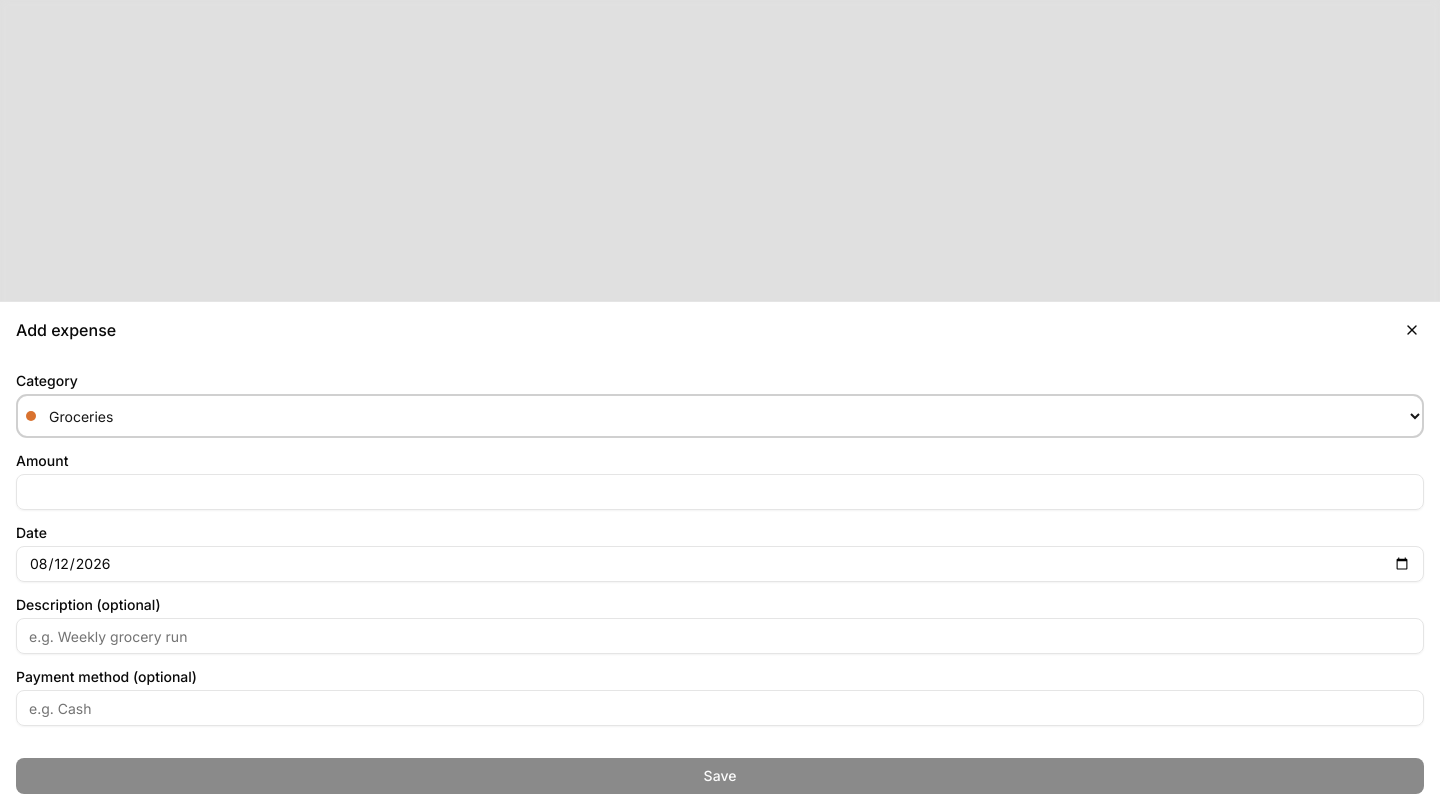
ExpenseForm › disables save until category, amount, and date are set
Expected: the button "Save" is disabled, [16,758,1424,794]
Type "850" into the field labelled "Amount" at (720,492), box [16,474,1424,510]
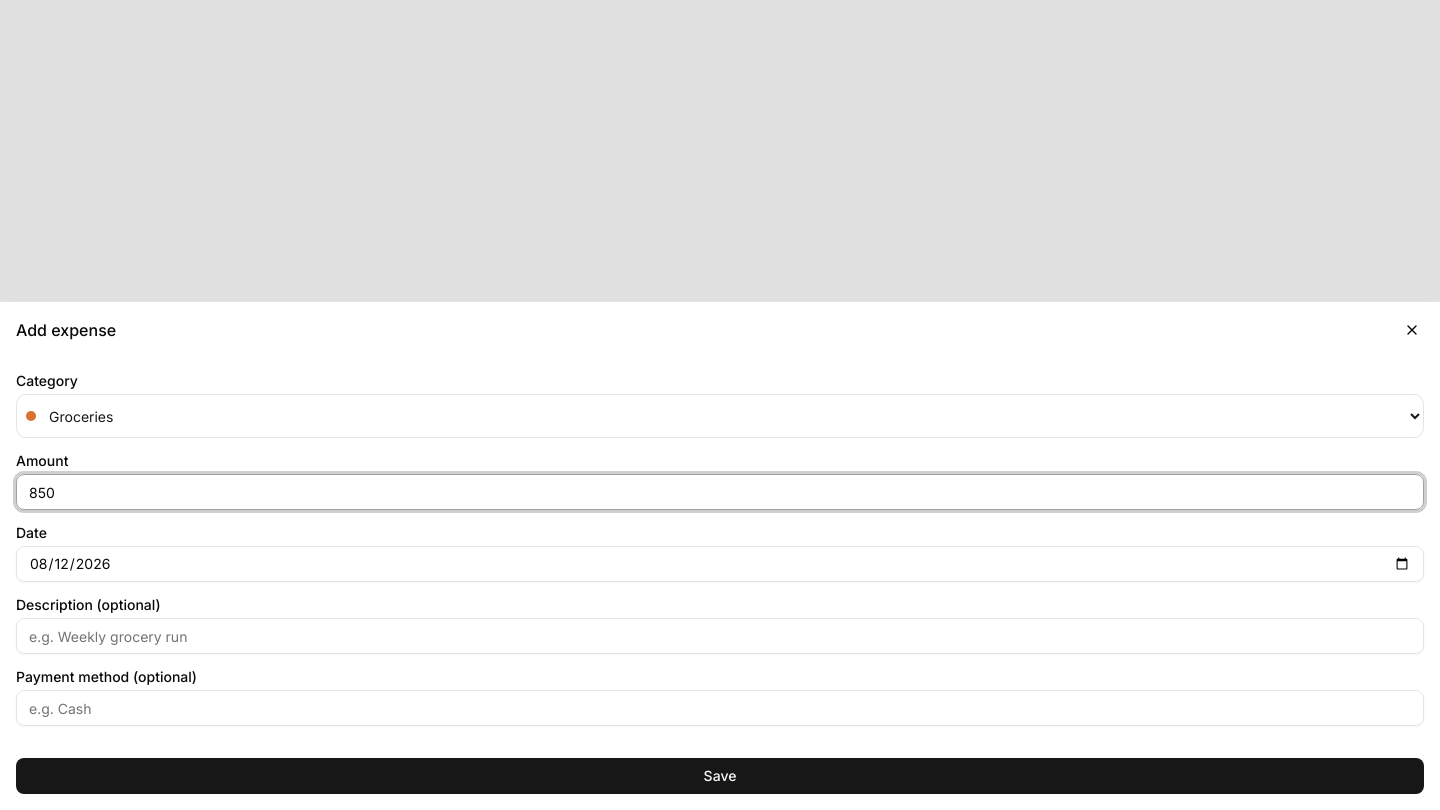
Result: the button "Save" is enabled at [16,758,1424,794]
